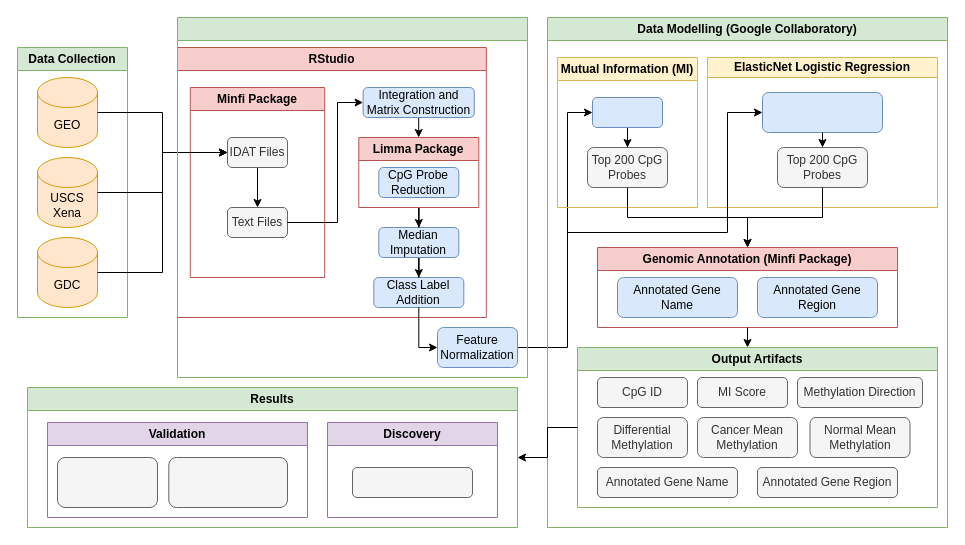
This 965x545 diagram has some shape labels left out. The centre of each missing label's shape, as x and y in pixels:
20 Newly Identified CpG Probes: the point at 412,482
Data Preprocessing: the point at 352,197
ElasticNet Coefficient Calculation: the point at 822,112
MI Score Calculation: the point at 627,112
Top 20 Cpg Probes based on ElasticNet Coefficient: the point at 228,482
Top 20 Cpg Probes Based on MI Score: the point at 107,482
